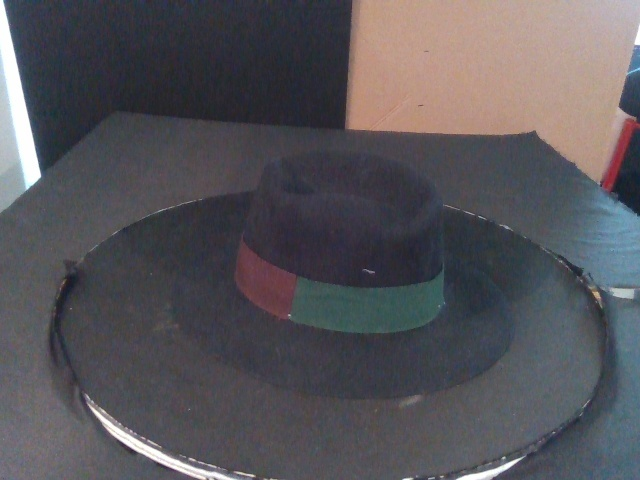hat: (175, 150, 514, 393)
